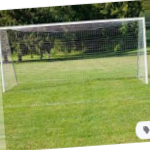goals: (1, 14, 150, 94)
